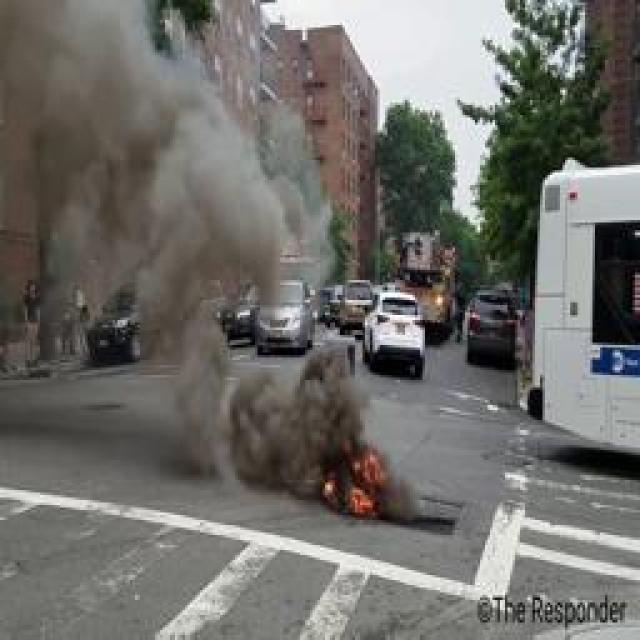Fire: (316, 432, 391, 522)
